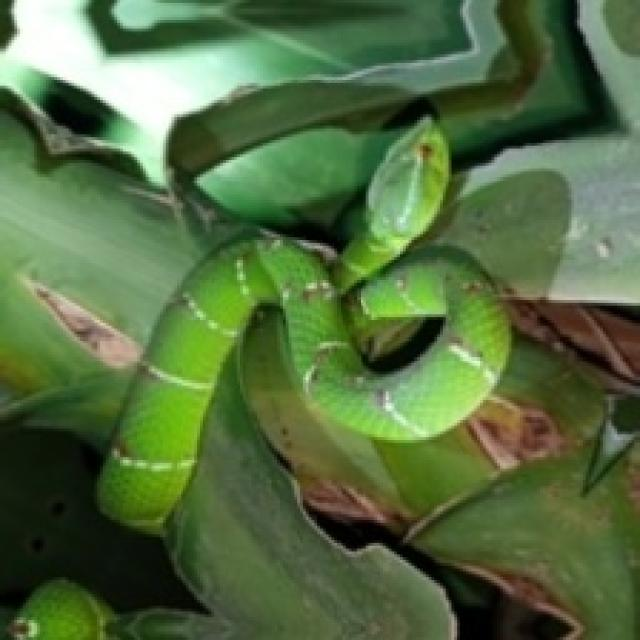north ph temple pitviper: (0, 97, 509, 531), (97, 117, 509, 529)
